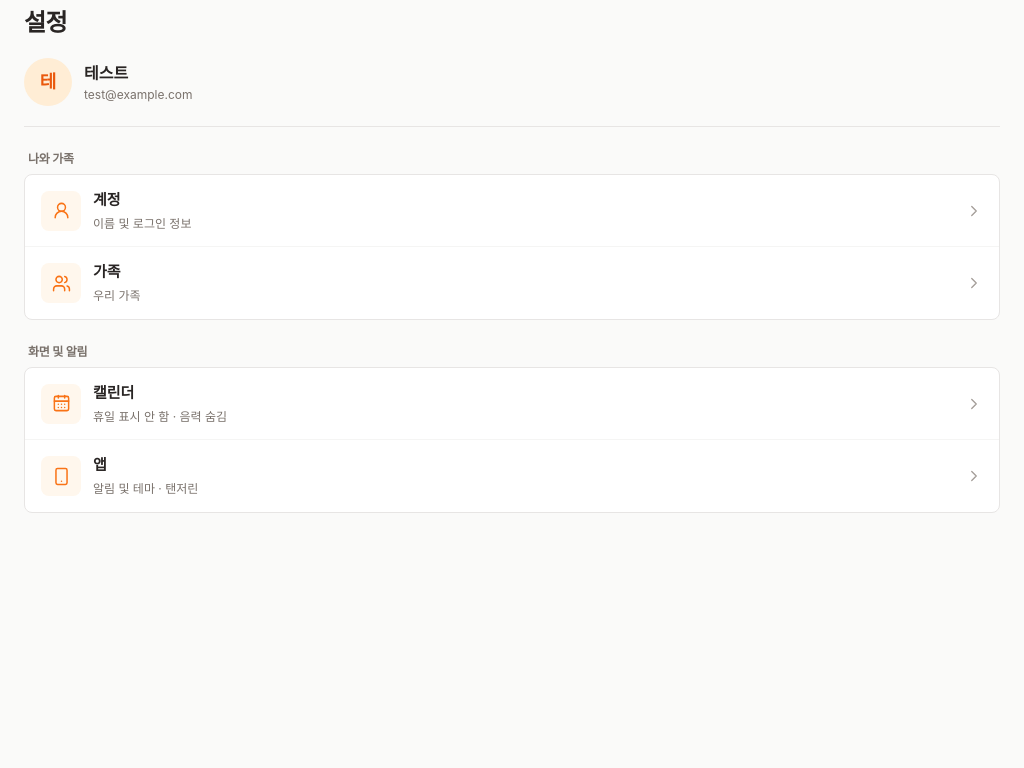
Test: SettingsTab 앱 서브뷰 — 알림 › 권한이 default일 때 "알림 허용하기" 버튼이 표시된다
Click the button "앱 알림 및 테마 · 탠저린" at (61, 476), box left=25, top=440, right=999, bottom=512
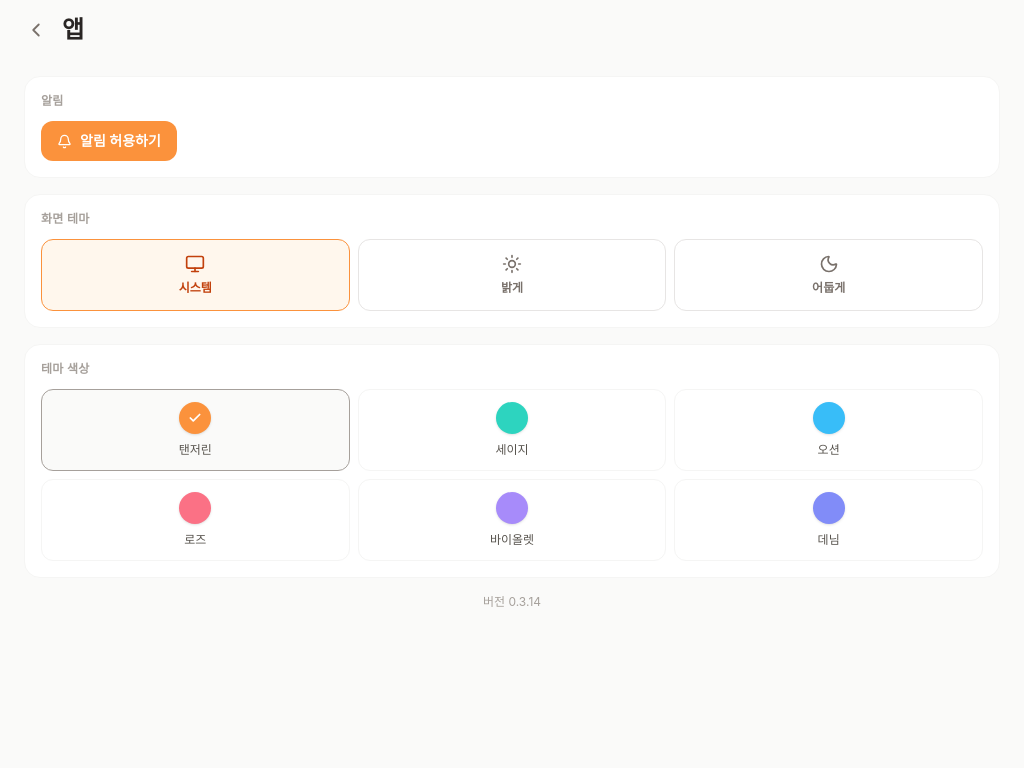
Expected: the button "알림 허용하기" is shown, left=41, top=121, right=177, bottom=161
Expected: the element with test id "settings-subview-container" is shown
